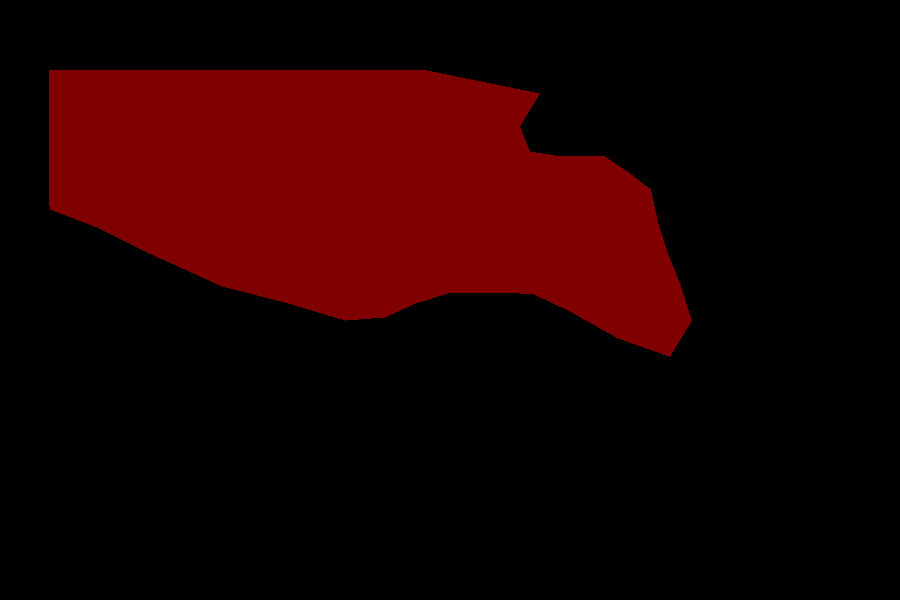fire: (49, 70, 691, 356)
